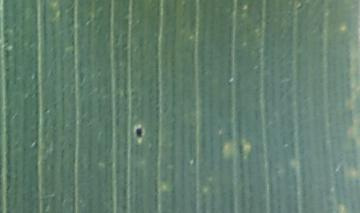tarspot: (134, 125, 143, 139)
